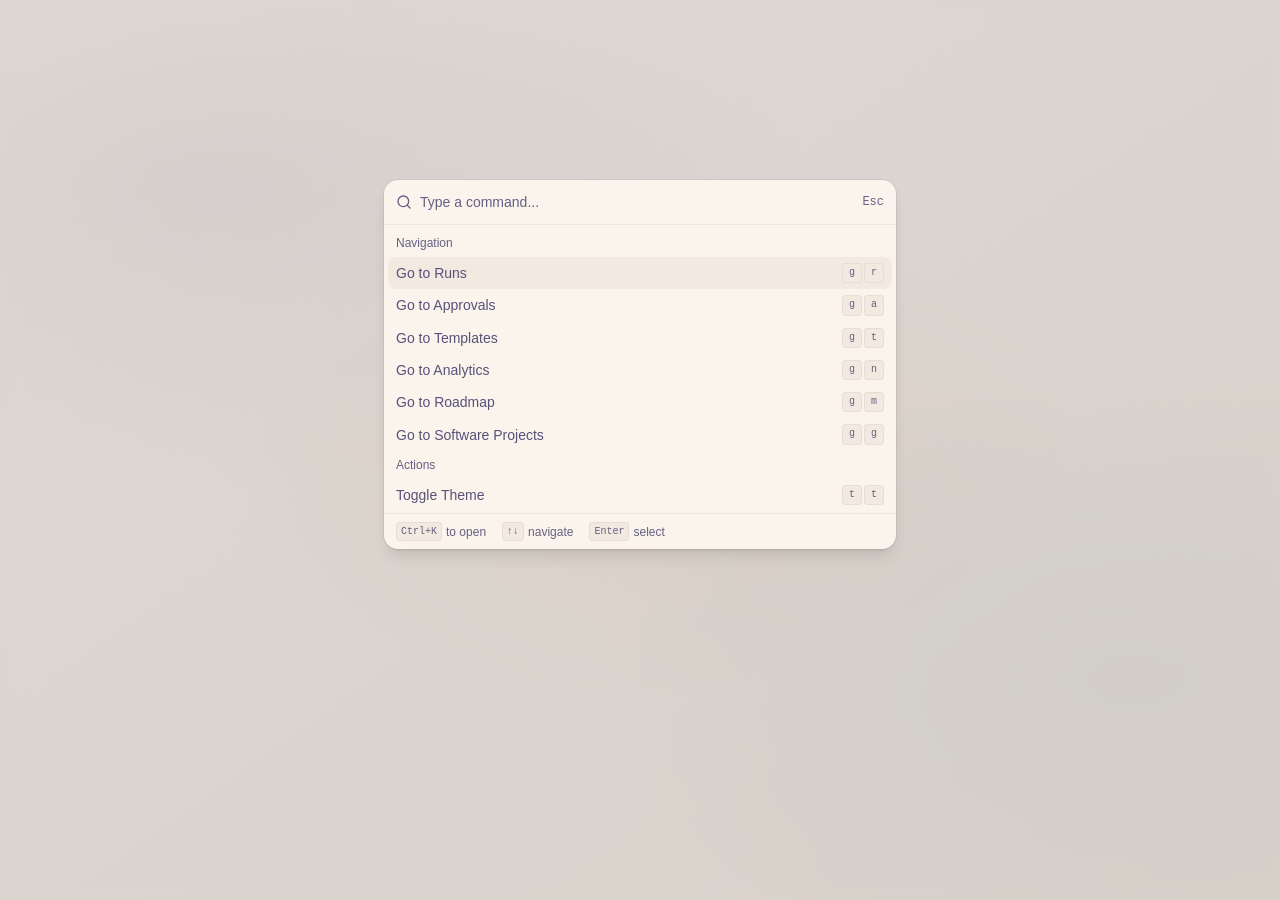
Test: CommandPalette › shows no results message for unmatched query
Type "xyznonexistent" into the dropdown with placeholder "Type a command..." at coordinates (637, 202), box [420, 180, 854, 224]
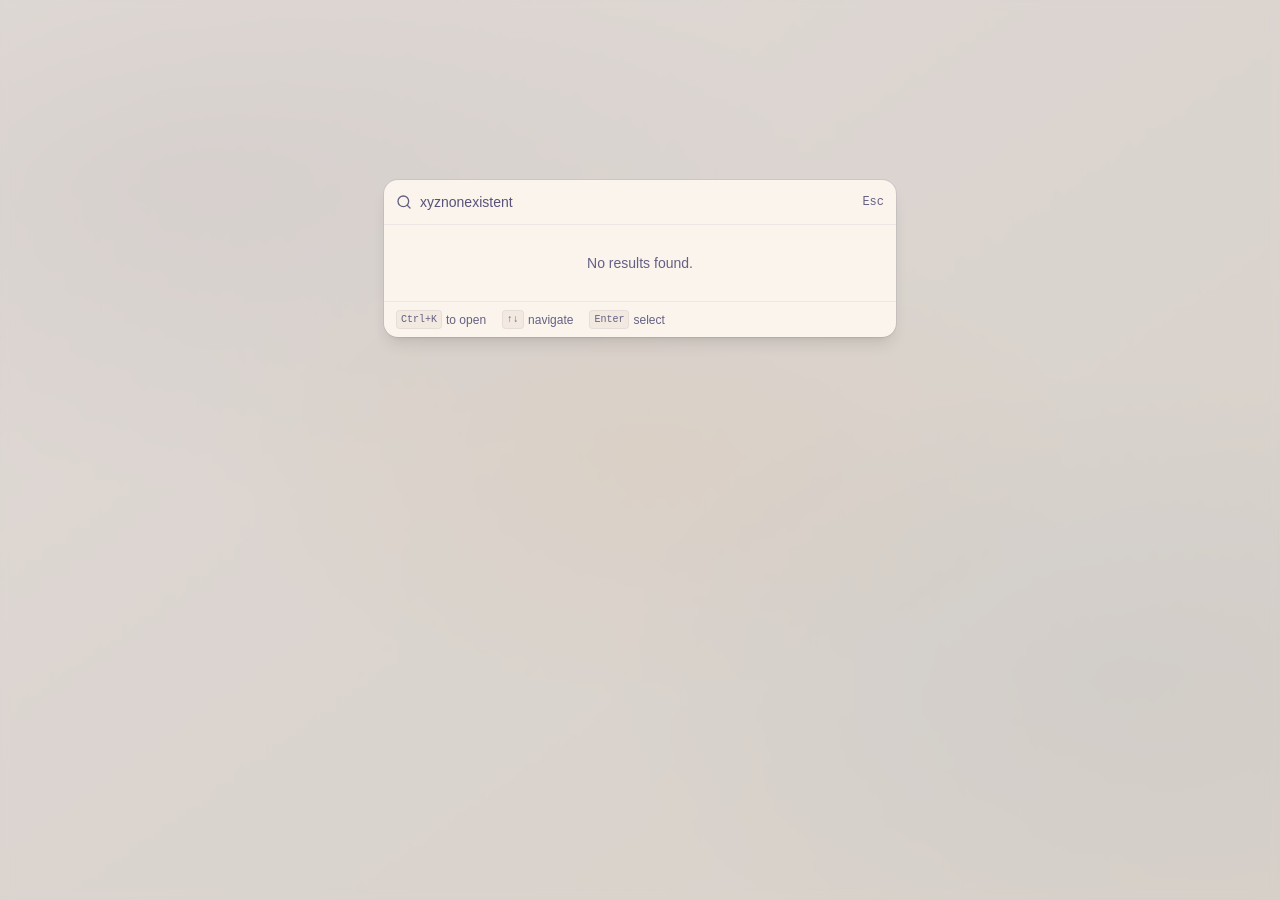
Expected: the text "No results found." is shown, [587, 255, 693, 271]
